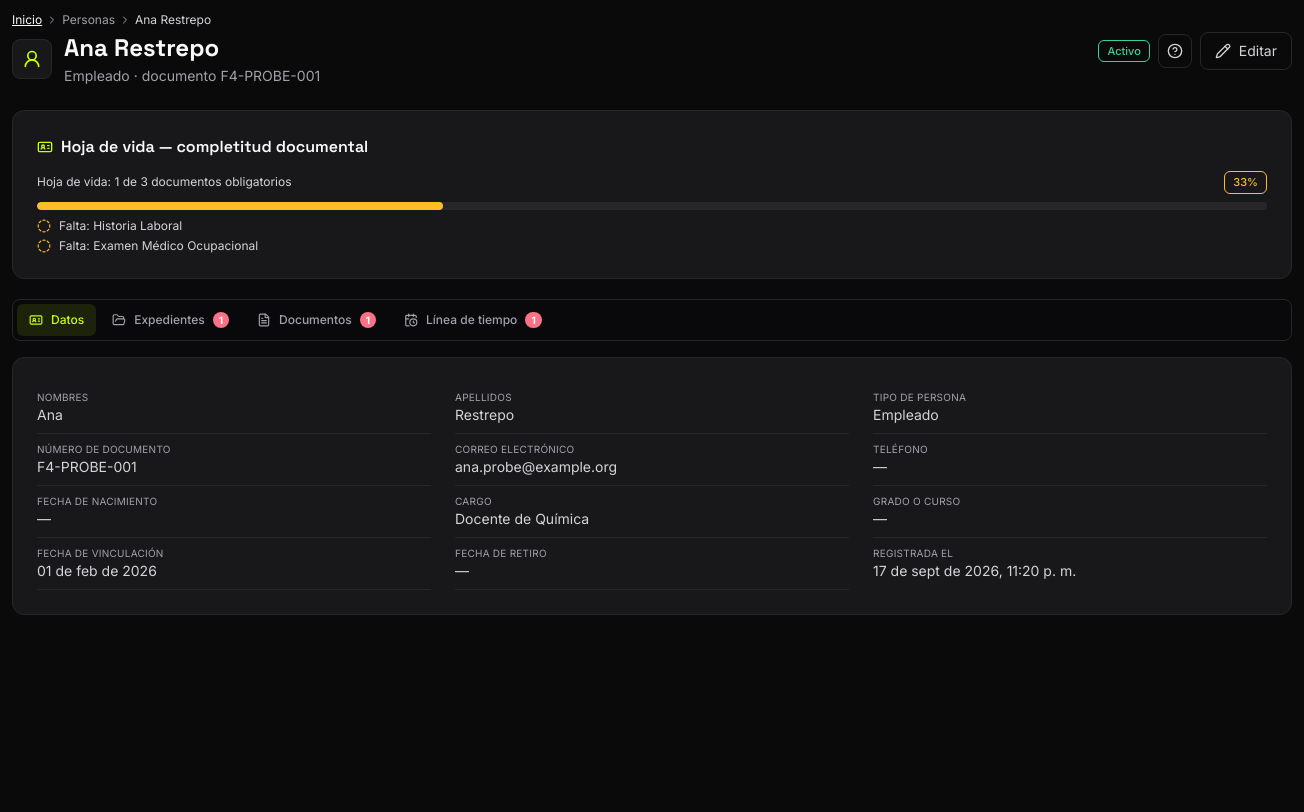
Test: Ficha de persona › cambia a Documentos y lista los documentos paginados del servidor
Expected: the element showing "Datos Expedientes 1 Documentos 1 Línea de tiempo 1" is shown, [12,298,1292,340]
Click the tab "Documentos 1" at (316, 320), box [245,304,388,336]
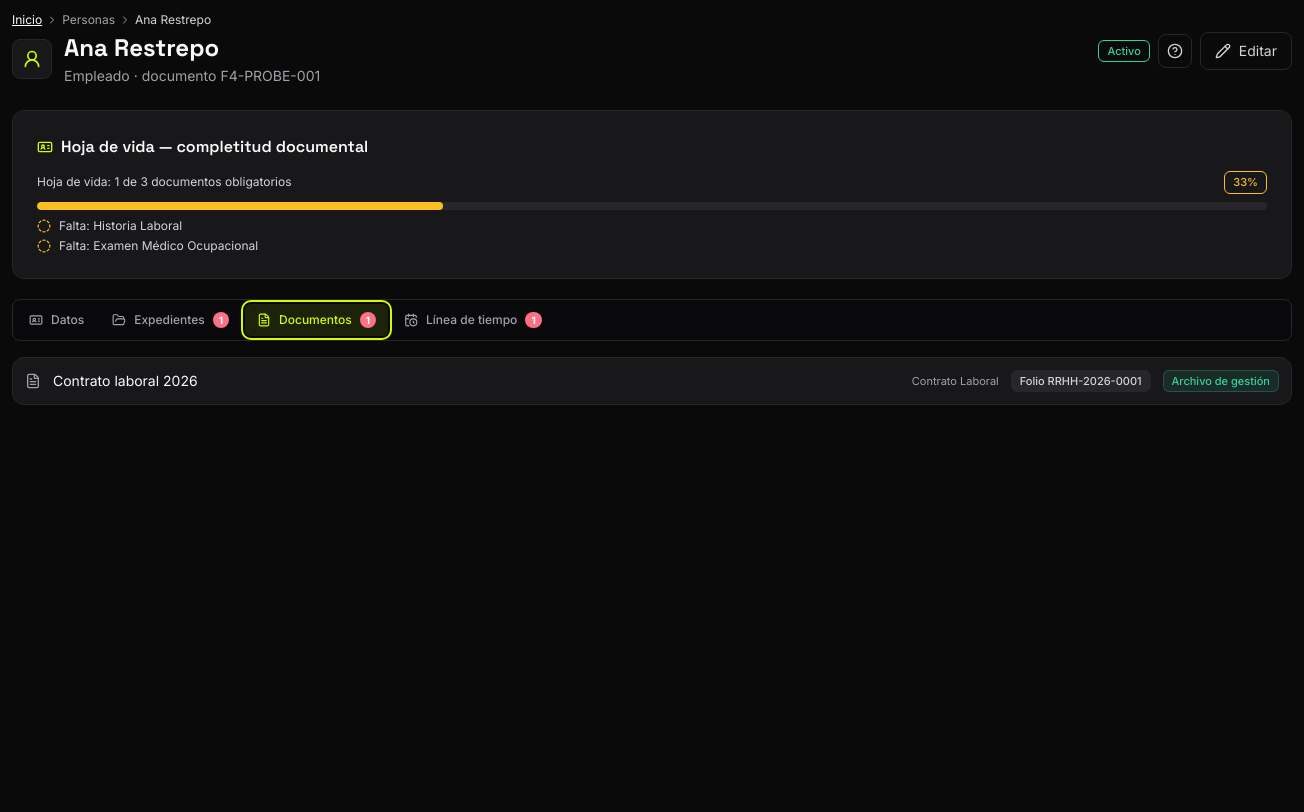
Expected: the text "Contrato laboral 2026" is shown, [53,372,198,389]
Expected: the text "Folio RRHH-2026-0001" is shown, [1011,370,1151,392]
